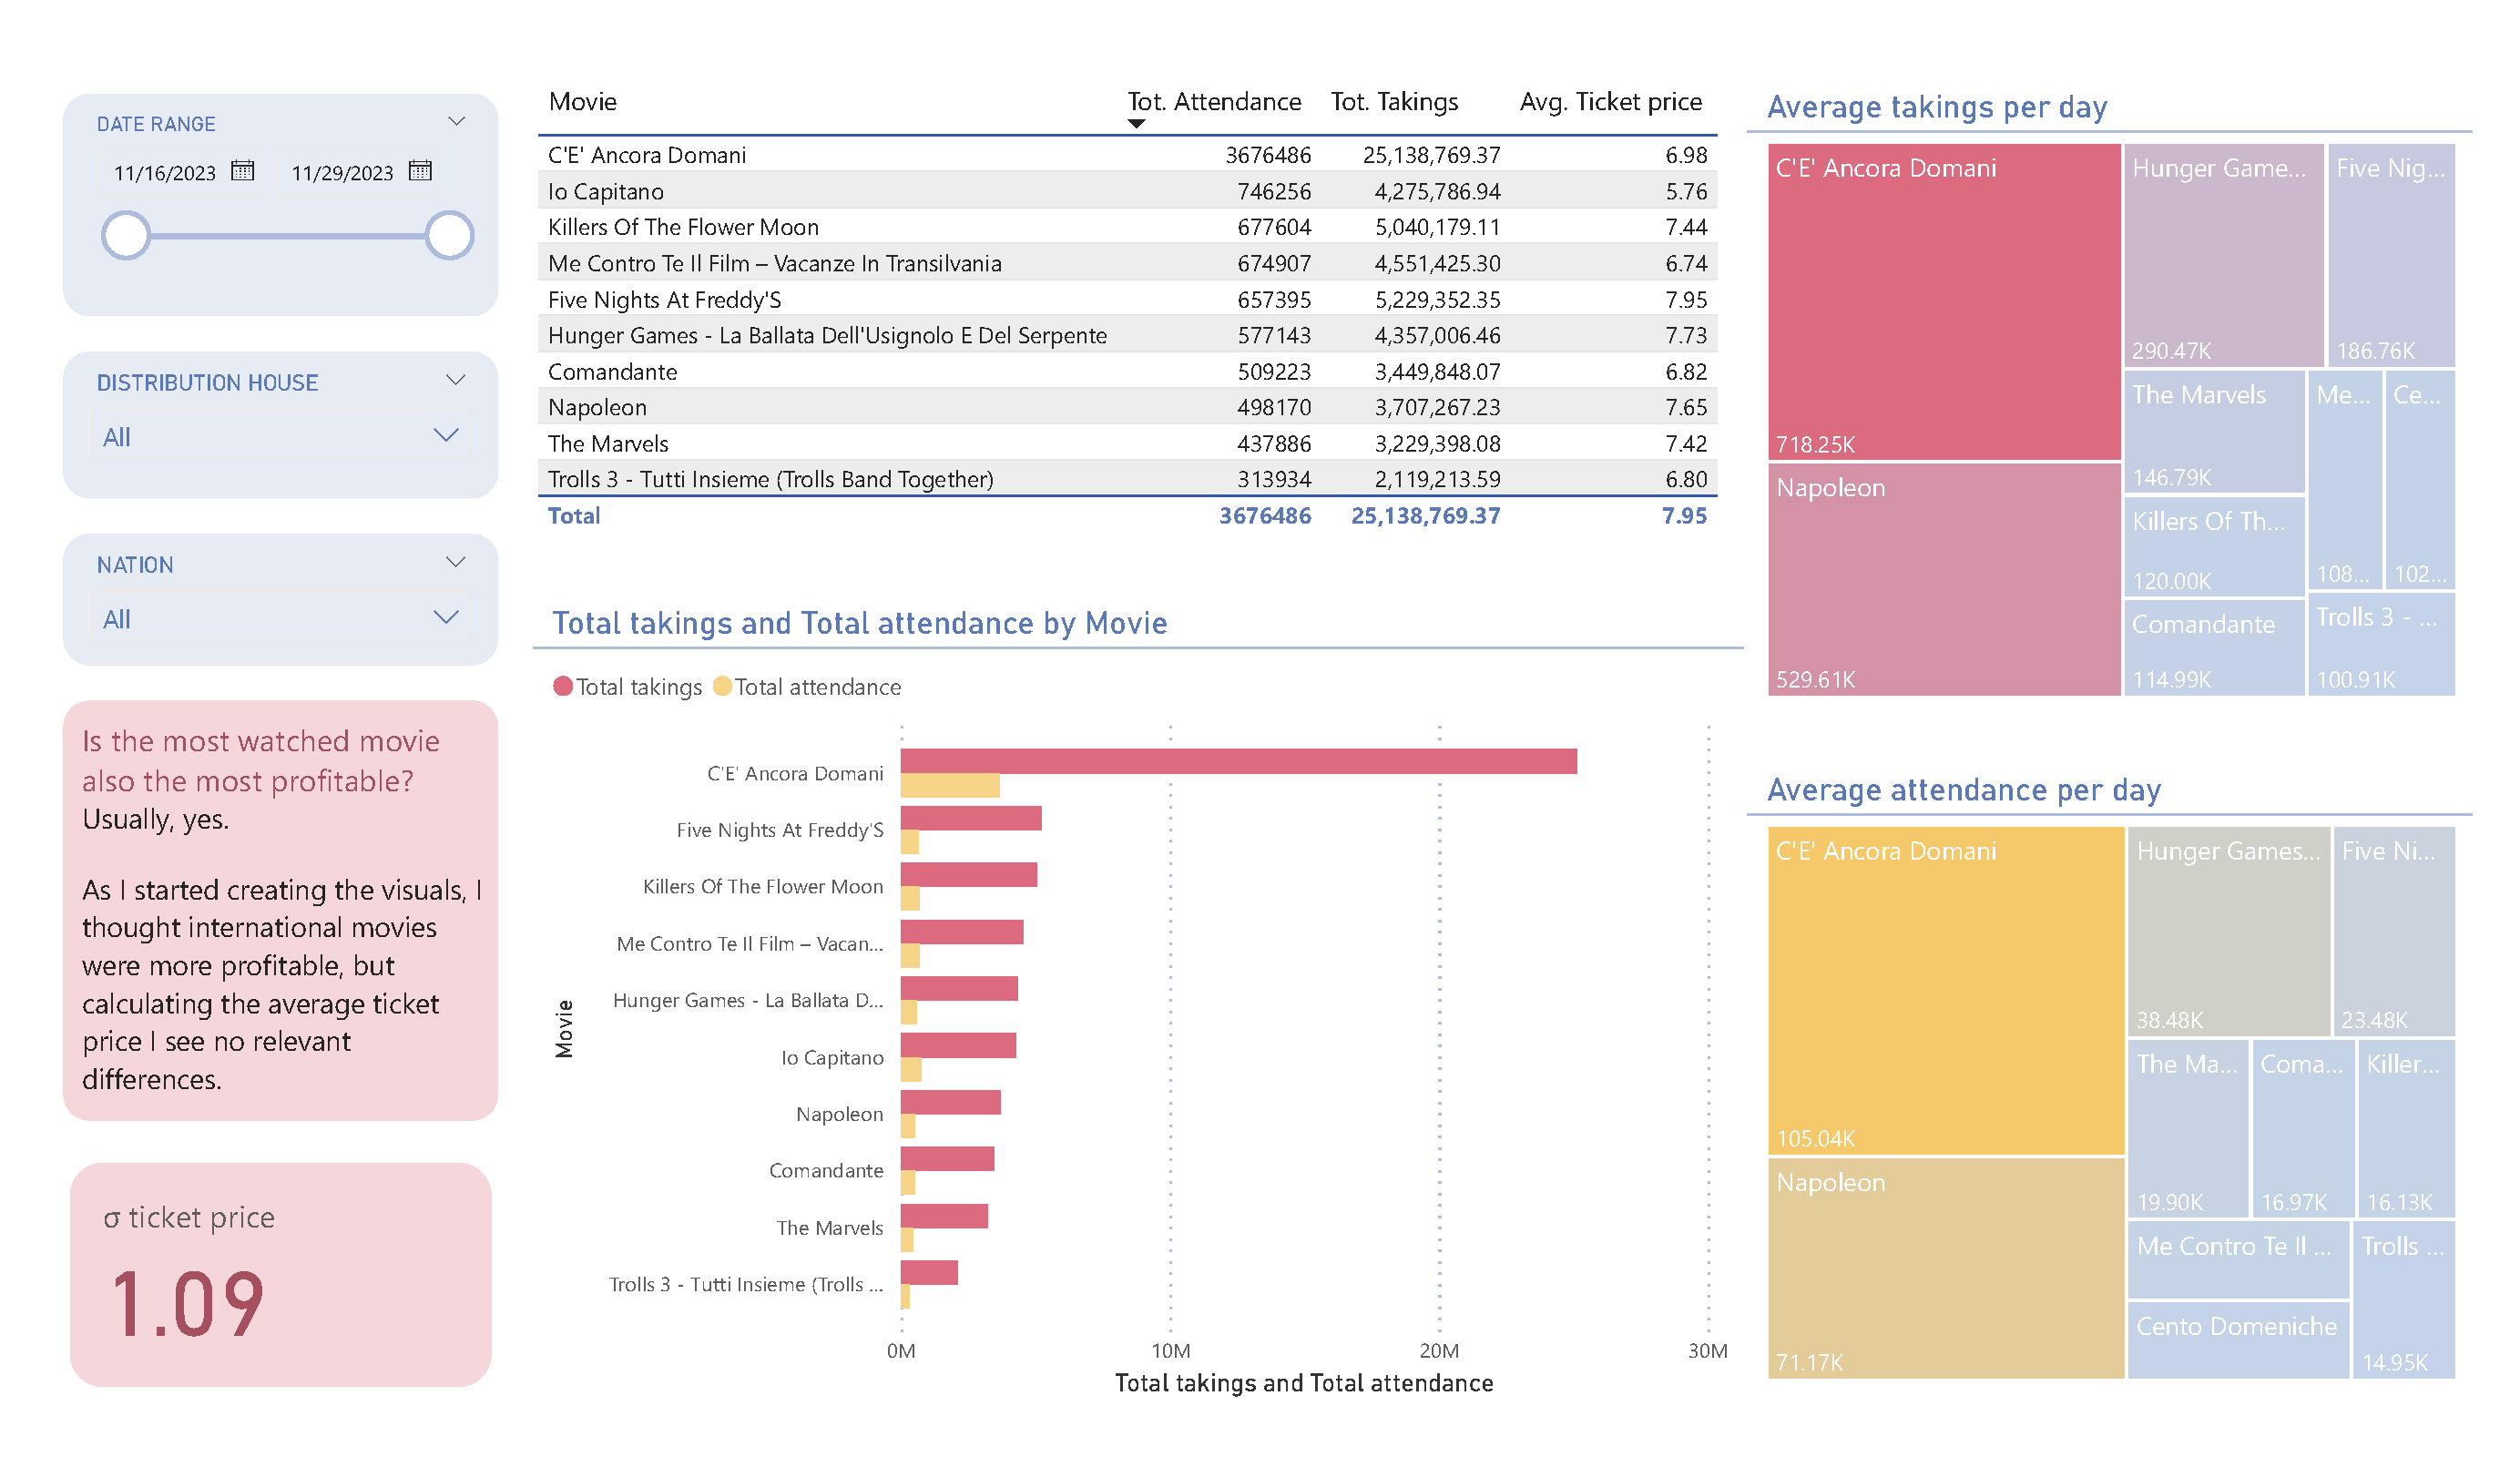

This screenshot's page, from the dashboard's own definition file:
{"tool":"powerbi","page":{"name":"General data","canvas":[1280,720],"ordinal":2},"visuals":[{"type":"treemap","title":"Average attendance per day","fields":{"Group":["cinetel_clean (2).title"],"Values":["cinetel_clean (2).avg_att_x_day"]},"box":[896,376,384,336],"z":0},{"type":"treemap","title":"Average takings per day","fields":{"Group":["cinetel_clean (2).title"],"Values":["cinetel_clean (2).avg_tkngs_x_day"]},"box":[896,16,384,336],"z":1000},{"type":"clusteredBarChart","fields":{"Category":["cinetel_clean (2).title"],"Y":["cinetel_clean (2).total_takings","cinetel_clean (2).total_attendance"]},"box":[256,288,640,432],"z":2000},{"type":"tableEx","fields":{"Values":["cinetel_clean (2).title","cinetel_clean (2).total_attendance","cinetel_clean (2).total_takings","cinetel_clean (2).takings_vs_attendance"]},"box":[248,8,648,280],"z":3000},{"type":"slicer","fields":{"Values":["cinetel_clean (2).date"]},"box":[8,24,232,120],"z":4000},{"type":"textbox","box":[8,344,232,224],"z":5000},{"type":"cardVisual","fields":{"Data":["cinetel_clean (2).avg_ticket_price"]},"box":[8,584,232,128],"z":6000},{"type":"slicer","fields":{"Values":["cinetel_clean (2).distribution"]},"box":[8,160,232,80],"z":7000},{"type":"slicer","fields":{"Values":["cinetel_clean (2).nation"]},"box":[8,256,232,72],"z":8000}]}

Visuals, with their boxes on the page's 1280x720 design canvas (x1, y1, x2, y2). These are canvas units, not pixel positions in the 2520x1457 screenshot, which may show the page scaled, cropped or inside an application window:
"Average attendance per day" treemap: [896, 376, 1280, 712]
"Average takings per day" treemap: [896, 16, 1280, 352]
clusteredBarChart - cinetel_clean (2).title x cinetel_clean (2).total_takings: [256, 288, 896, 720]
tableEx - cinetel_clean (2).title x cinetel_clean (2).total_attendance: [248, 8, 896, 288]
slicer - cinetel_clean (2).date: [8, 24, 240, 144]
textbox: [8, 344, 240, 568]
cardVisual - cinetel_clean (2).avg_ticket_price: [8, 584, 240, 712]
slicer - cinetel_clean (2).distribution: [8, 160, 240, 240]
slicer - cinetel_clean (2).nation: [8, 256, 240, 328]
